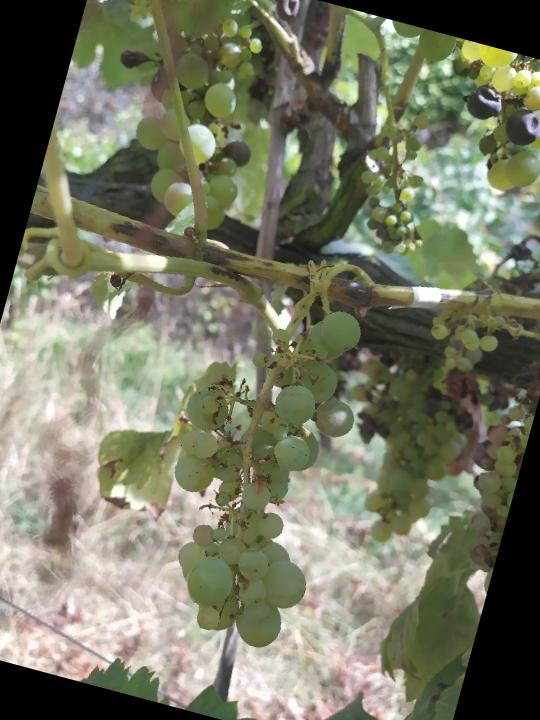grape: (128, 277, 386, 661)
